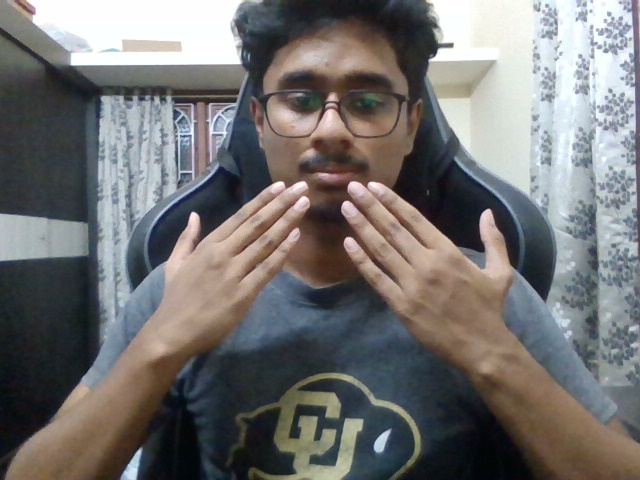thank you: (129, 162, 539, 372)
